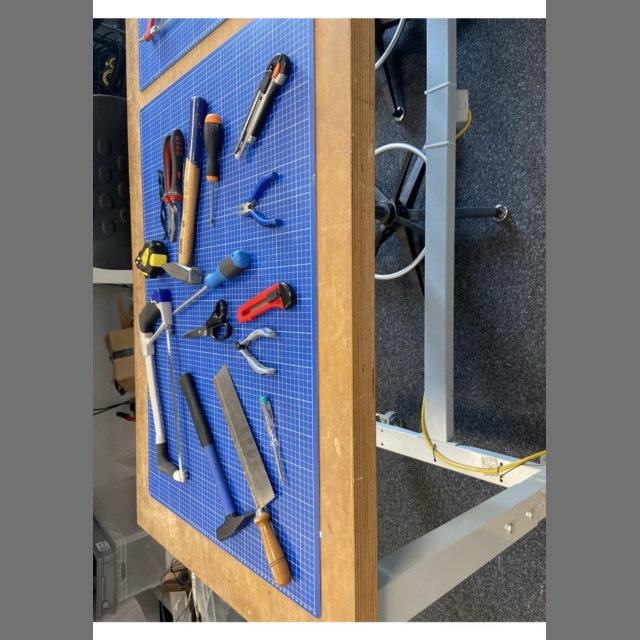scissor: (180, 298, 234, 343)
screwdriver: (170, 248, 254, 317), (200, 110, 230, 231), (257, 393, 288, 489)
